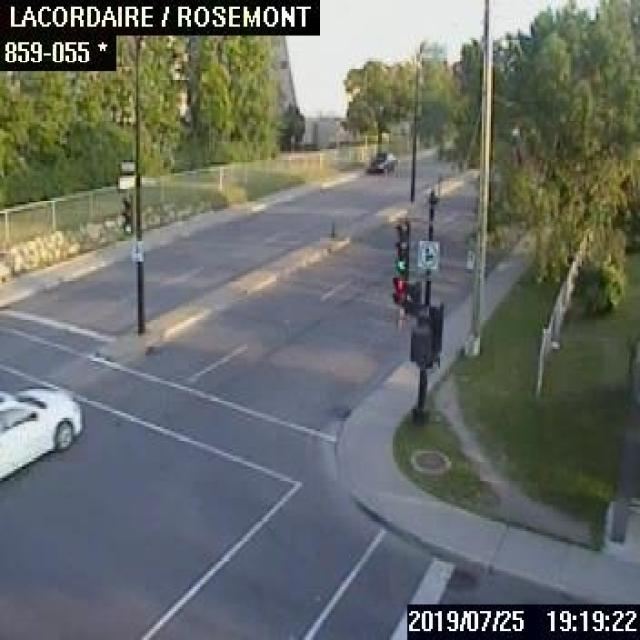vehicle: (0, 385, 80, 479), (365, 152, 396, 173)
